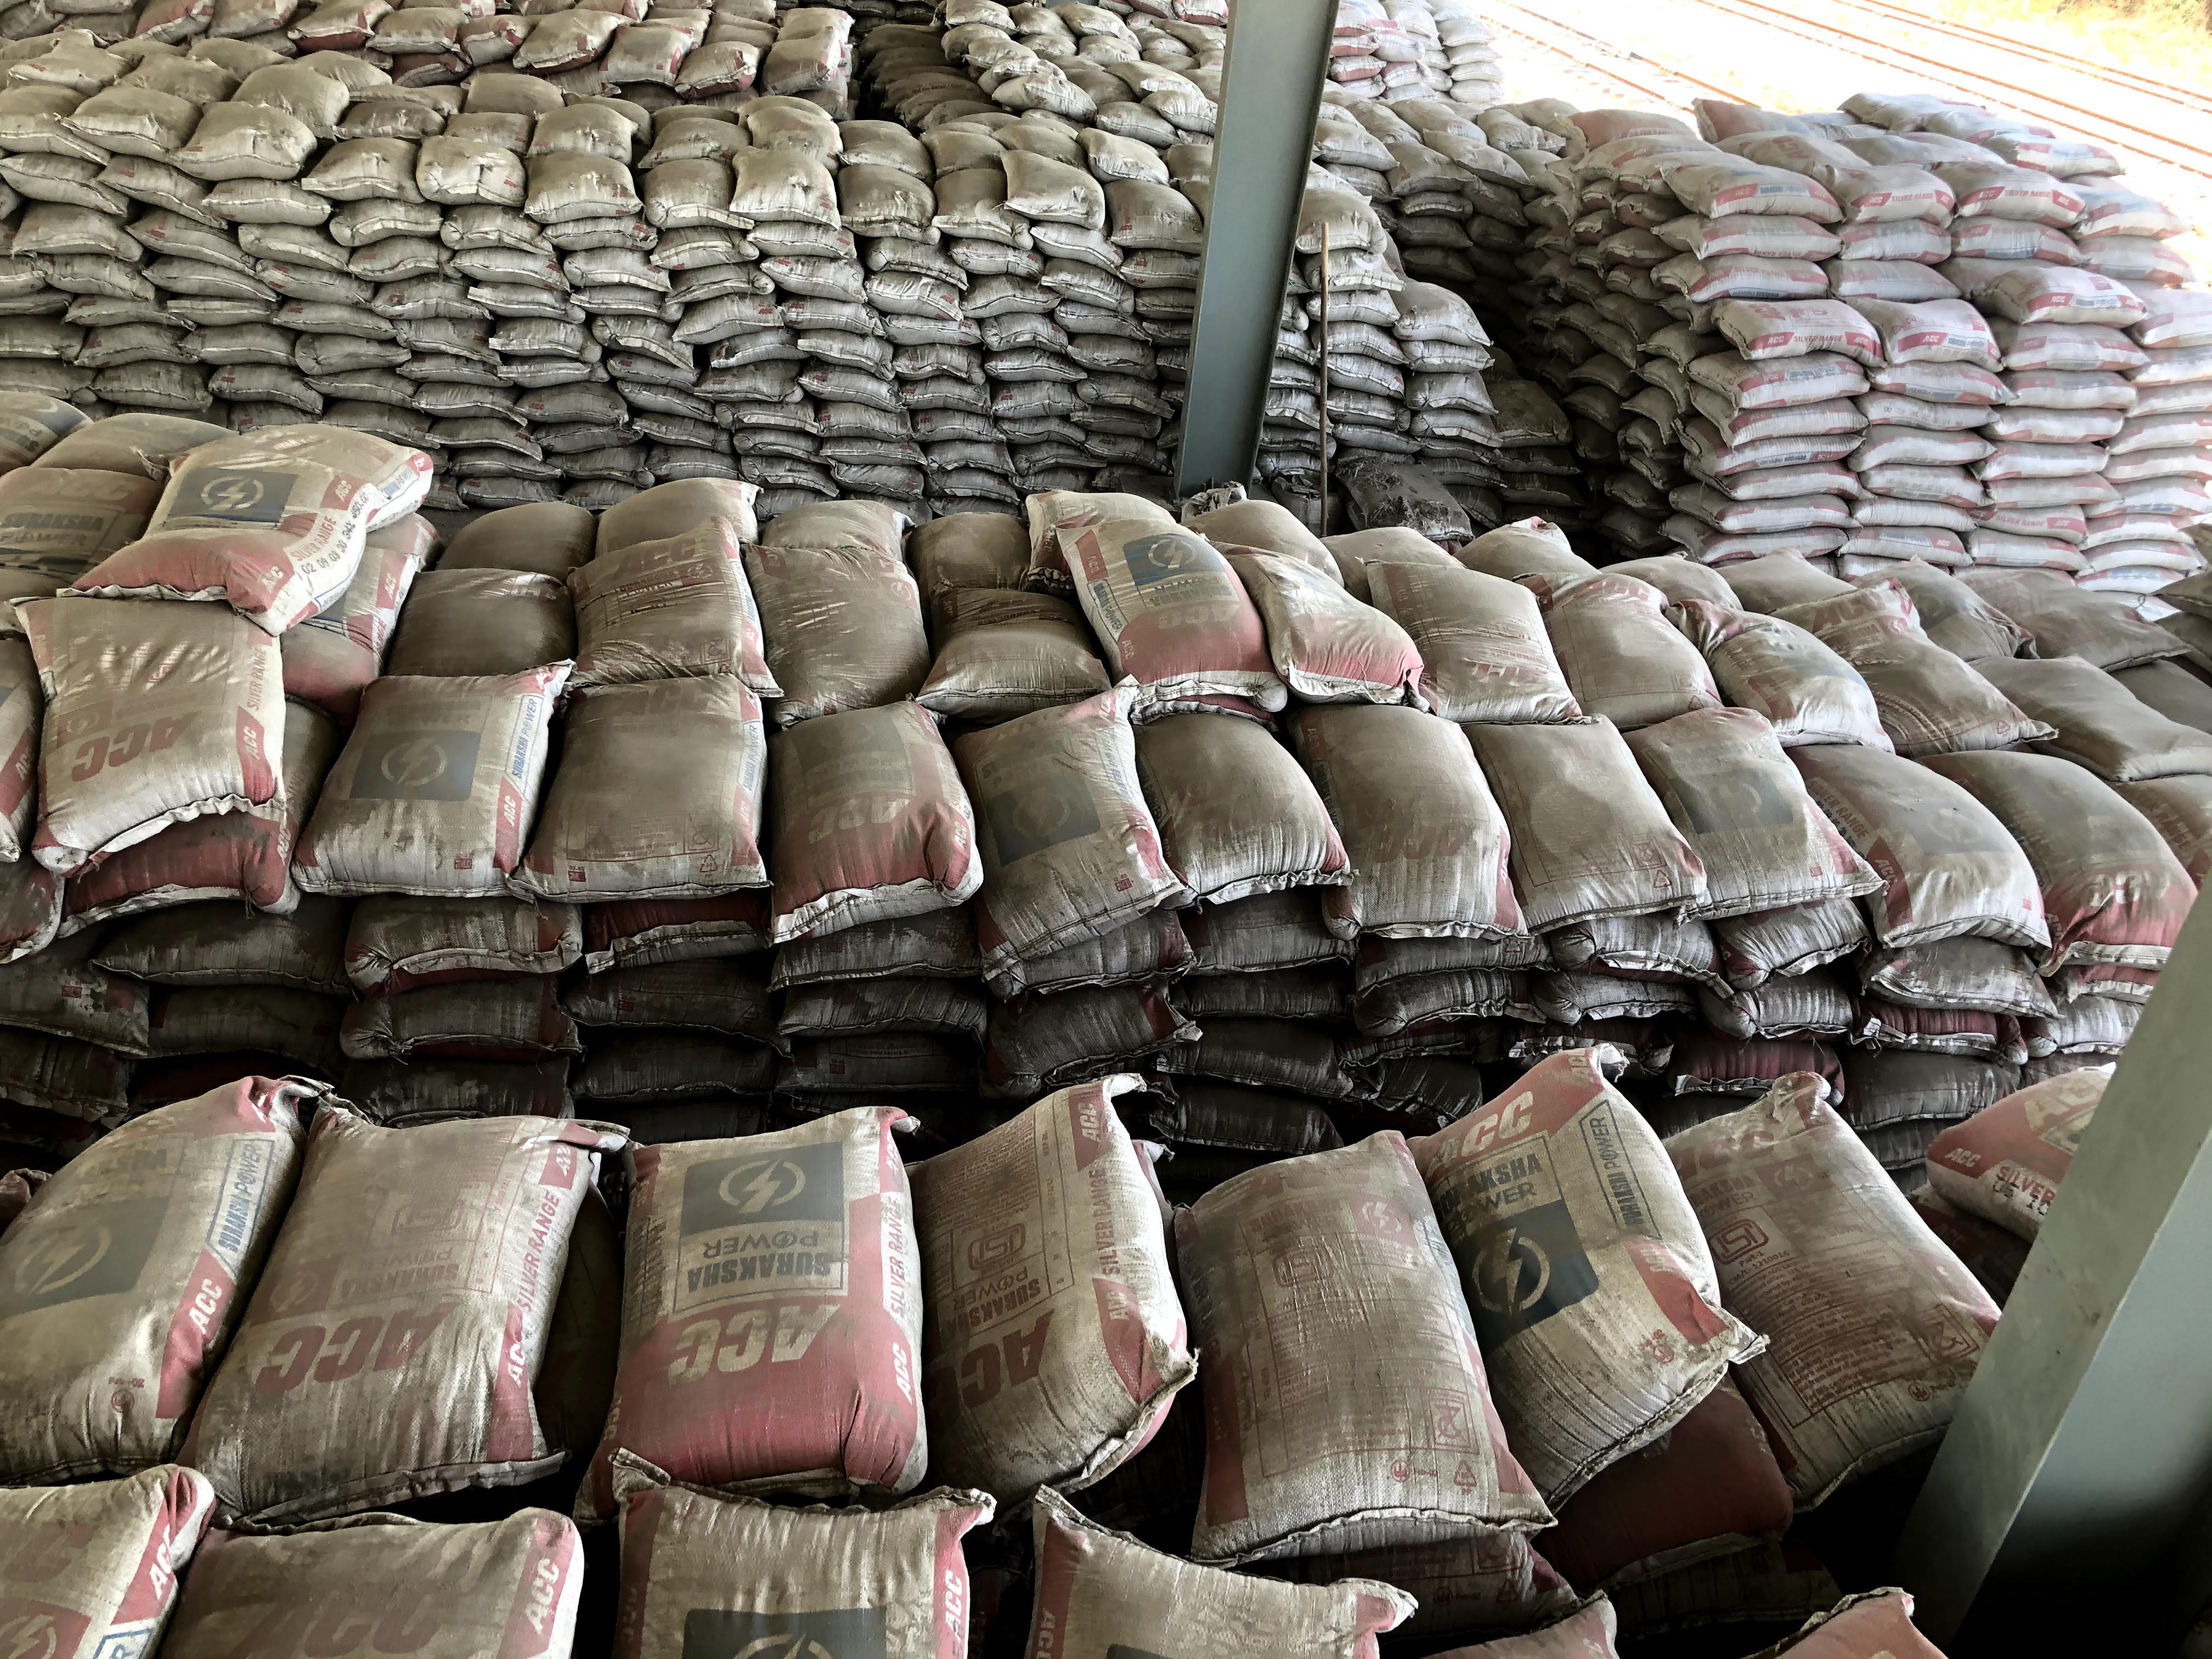cement bag: (580, 1110, 888, 1497), (282, 1100, 580, 1497), (888, 1110, 1160, 1464), (1160, 1171, 1442, 1464), (1433, 1138, 1747, 1398), (752, 671, 998, 913), (10, 584, 265, 814), (45, 1115, 218, 1429), (1747, 1089, 1921, 1398), (521, 671, 752, 896), (1296, 704, 1514, 938), (1959, 746, 2172, 941), (970, 721, 1176, 913), (1656, 728, 1862, 915), (364, 683, 521, 896), (1381, 556, 1581, 709), (1848, 606, 2059, 751), (1071, 532, 1252, 699), (1252, 532, 1428, 702), (1514, 728, 1656, 938), (554, 532, 752, 676), (1176, 704, 1296, 913), (192, 413, 307, 612), (1543, 592, 1724, 713), (923, 556, 1071, 699), (752, 556, 923, 676), (1862, 746, 1959, 915), (1724, 606, 1848, 713), (70, 389, 174, 504)
